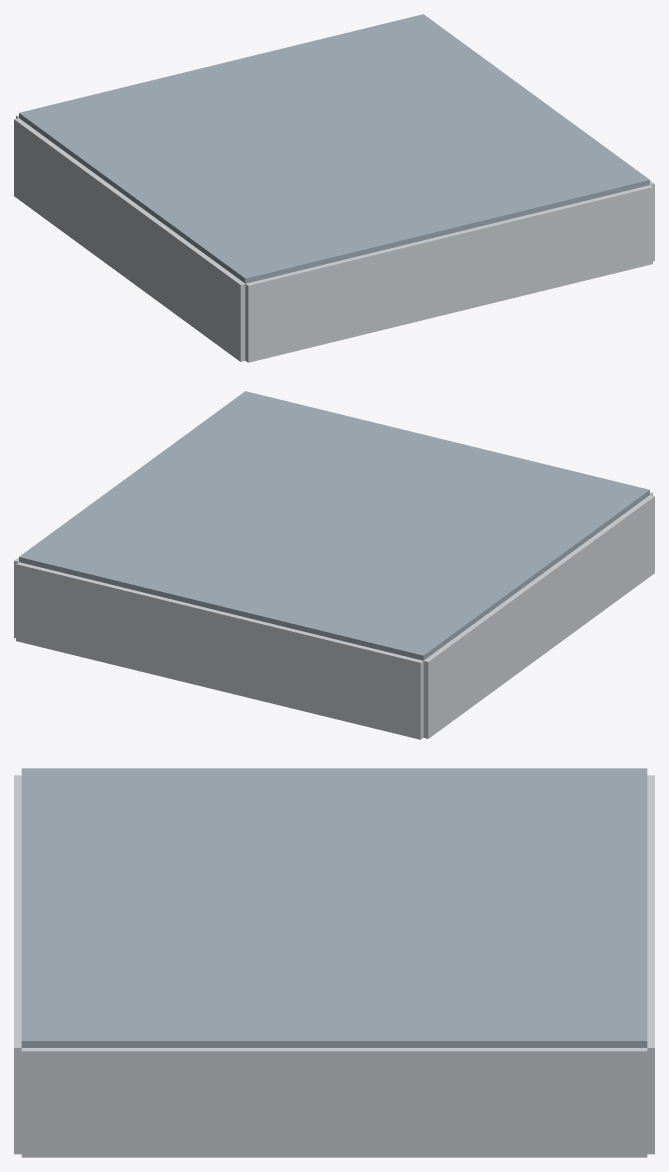
File: 361_L123_SH2_ShieldCan.glb
The picture shows the model from 3 angles, top to bottom: view 1: azimuth 30°, elevation 25°; view 2: azimuth 150°, elevation 25°; view 3: azimuth 270°, elevation 25°; orthographic projection. The views are drawn at different scales.
Parts seen in each view (by area): view 1: 361_L123_SH2_ShieldCan__PSMAT__steel, 361_L123_SH2_ShieldCan__PSMAT__nickel; view 2: 361_L123_SH2_ShieldCan__PSMAT__steel, 361_L123_SH2_ShieldCan__PSMAT__nickel; view 3: 361_L123_SH2_ShieldCan__PSMAT__steel, 361_L123_SH2_ShieldCan__PSMAT__nickel.
Part boxes in pixels (x1=…): 361_L123_SH2_ShieldCan__PSMAT__steel: x1=19, y1=14, x2=649, y2=283; 361_L123_SH2_ShieldCan__PSMAT__nickel: x1=14, y1=115, x2=654, y2=362; 361_L123_SH2_ShieldCan__PSMAT__steel: x1=19, y1=391, x2=649, y2=660; 361_L123_SH2_ShieldCan__PSMAT__nickel: x1=14, y1=492, x2=654, y2=739; 361_L123_SH2_ShieldCan__PSMAT__steel: x1=21, y1=768, x2=647, y2=1047; 361_L123_SH2_ShieldCan__PSMAT__nickel: x1=14, y1=775, x2=654, y2=1157.
Bounding box in the file's own units: 0.0338 × 0.0064 × 0.0328.
